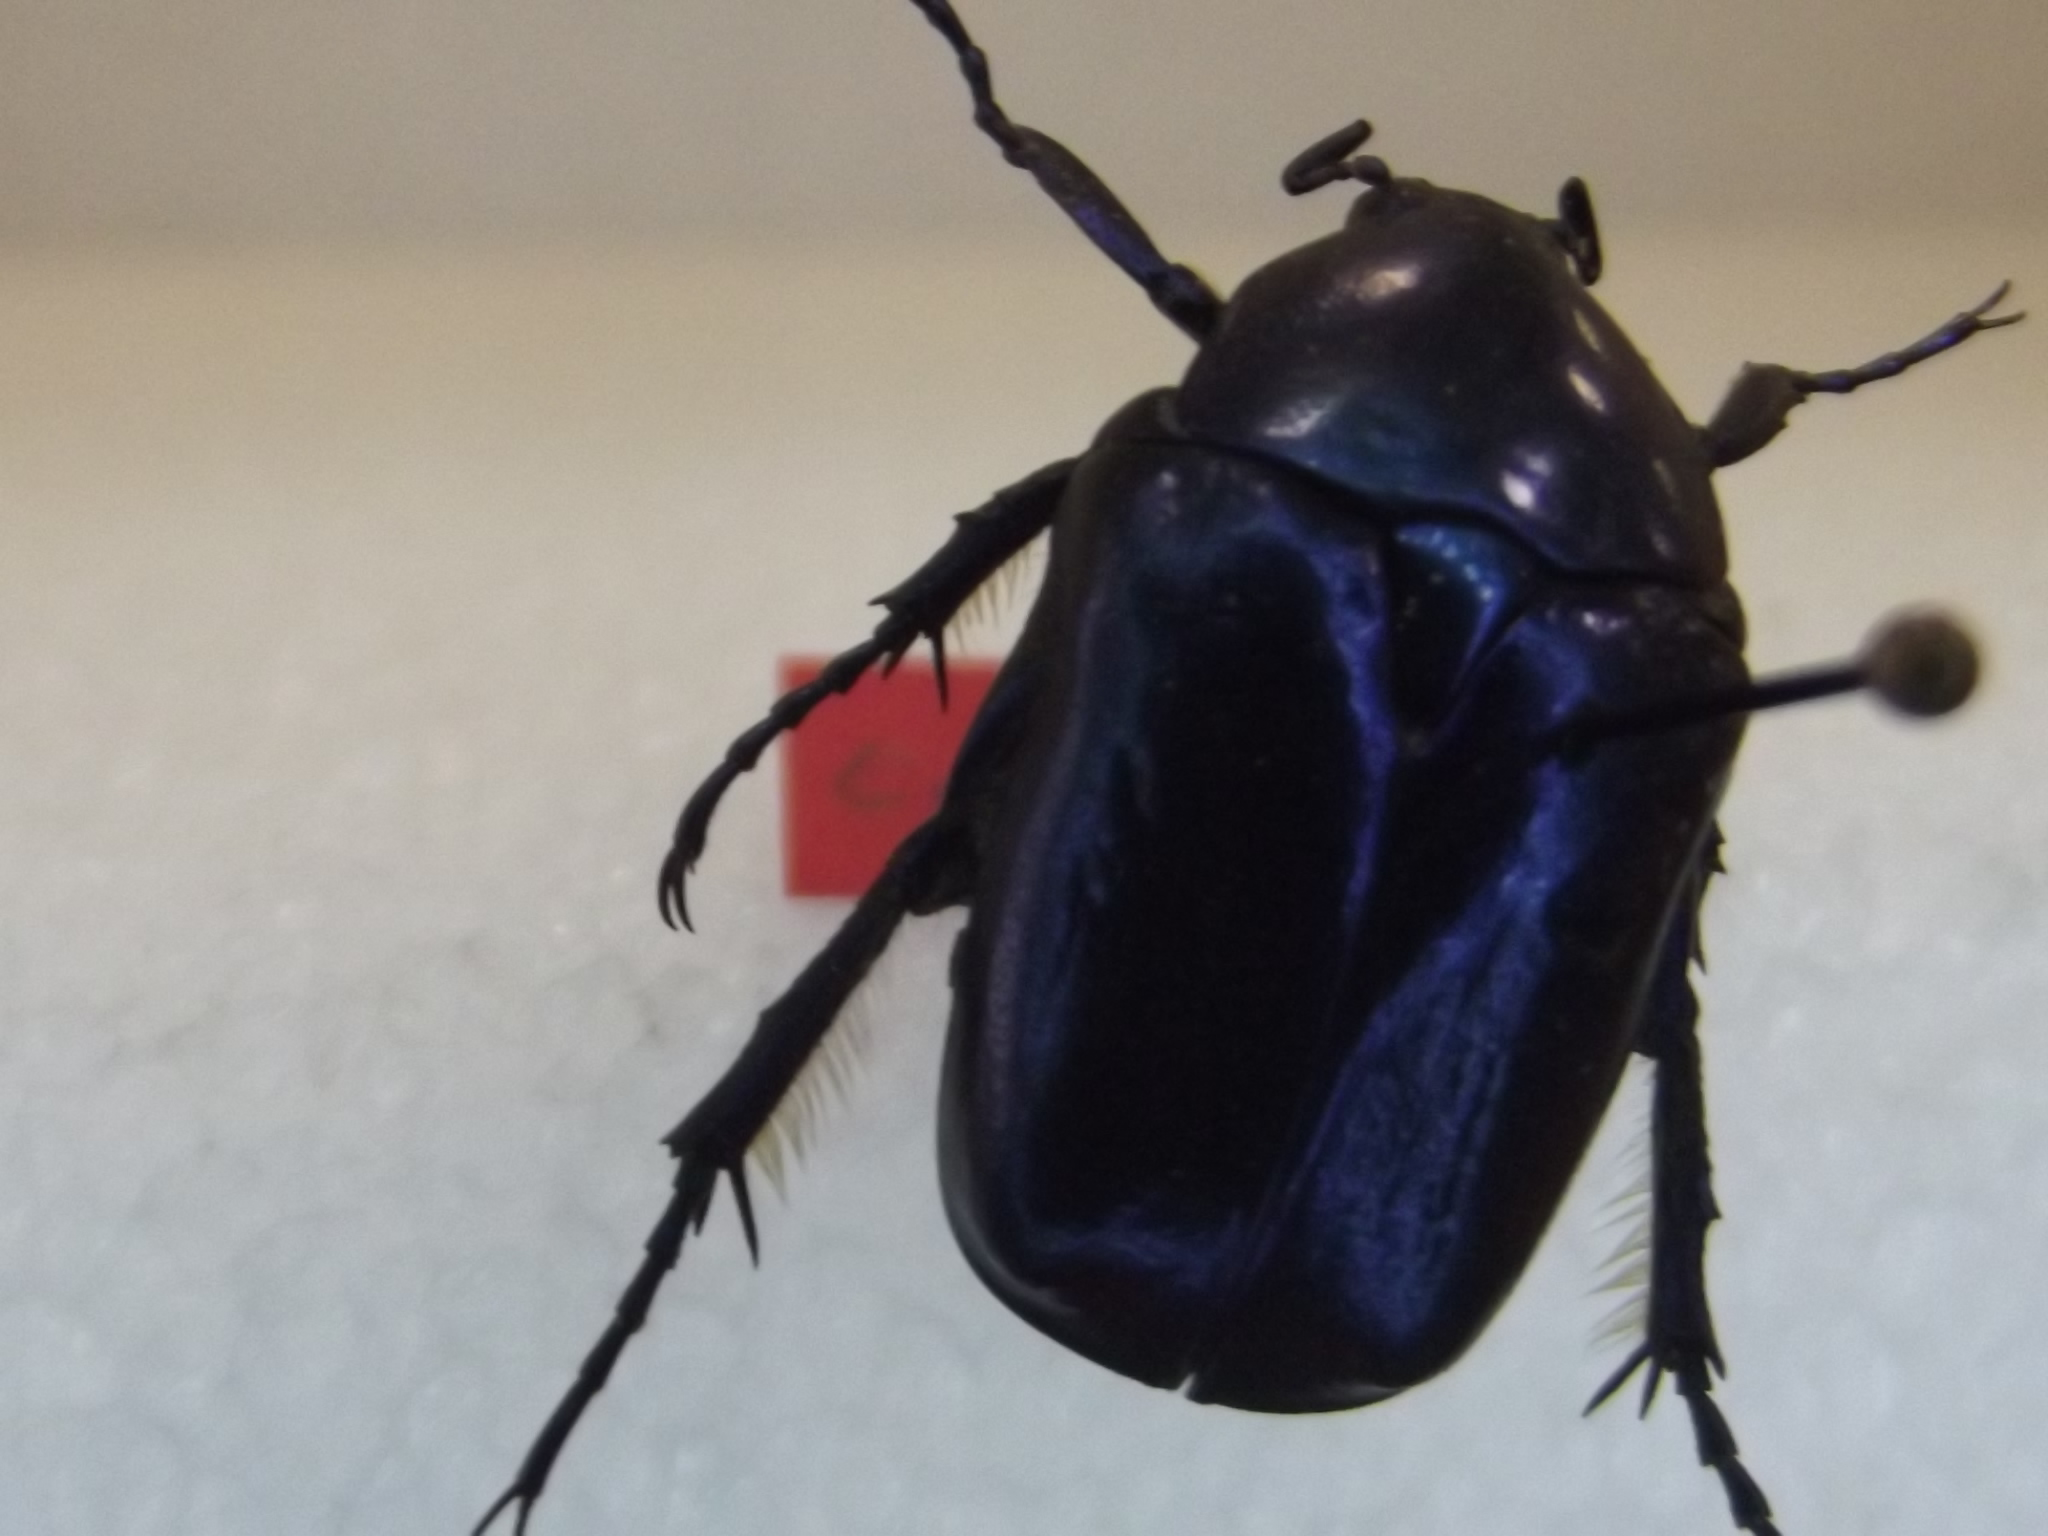Protaetia_besucheti: (443, 2, 2035, 1536)
